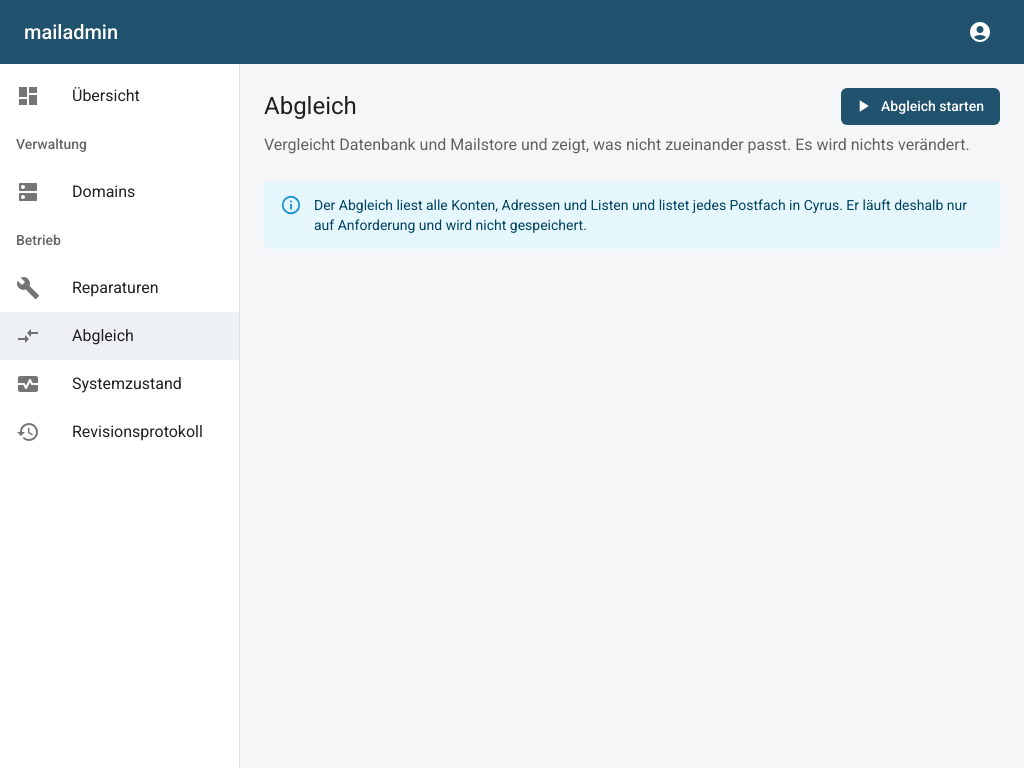
Scenario: the reconciliation › renders an unreachable mail store through the catalogue, without retrying on its own
Click the button "Abgleich starten" at (920,106), box [841,88,1000,124]
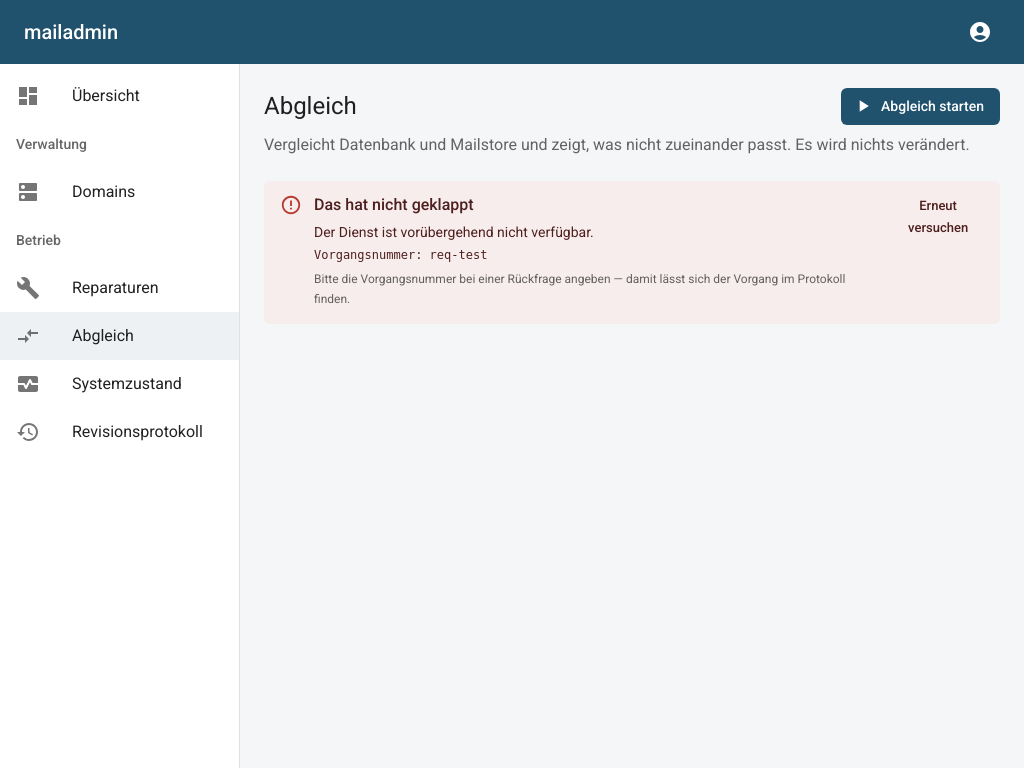
Now the message shows "Der Dienst ist vorübergehend nicht verfügbar.", box [314,224,594,240]
Now the message shows "req-test", box [314,248,487,262]
